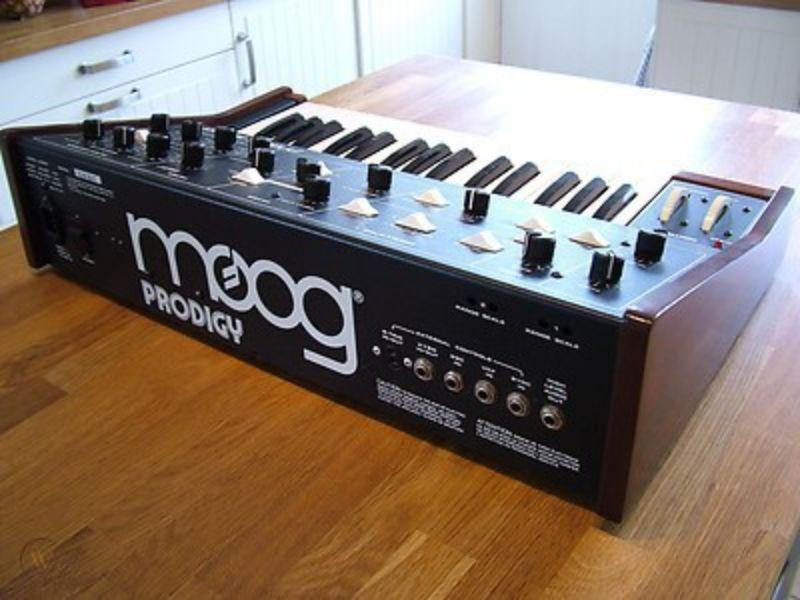synthesizer: (7, 82, 789, 511)
